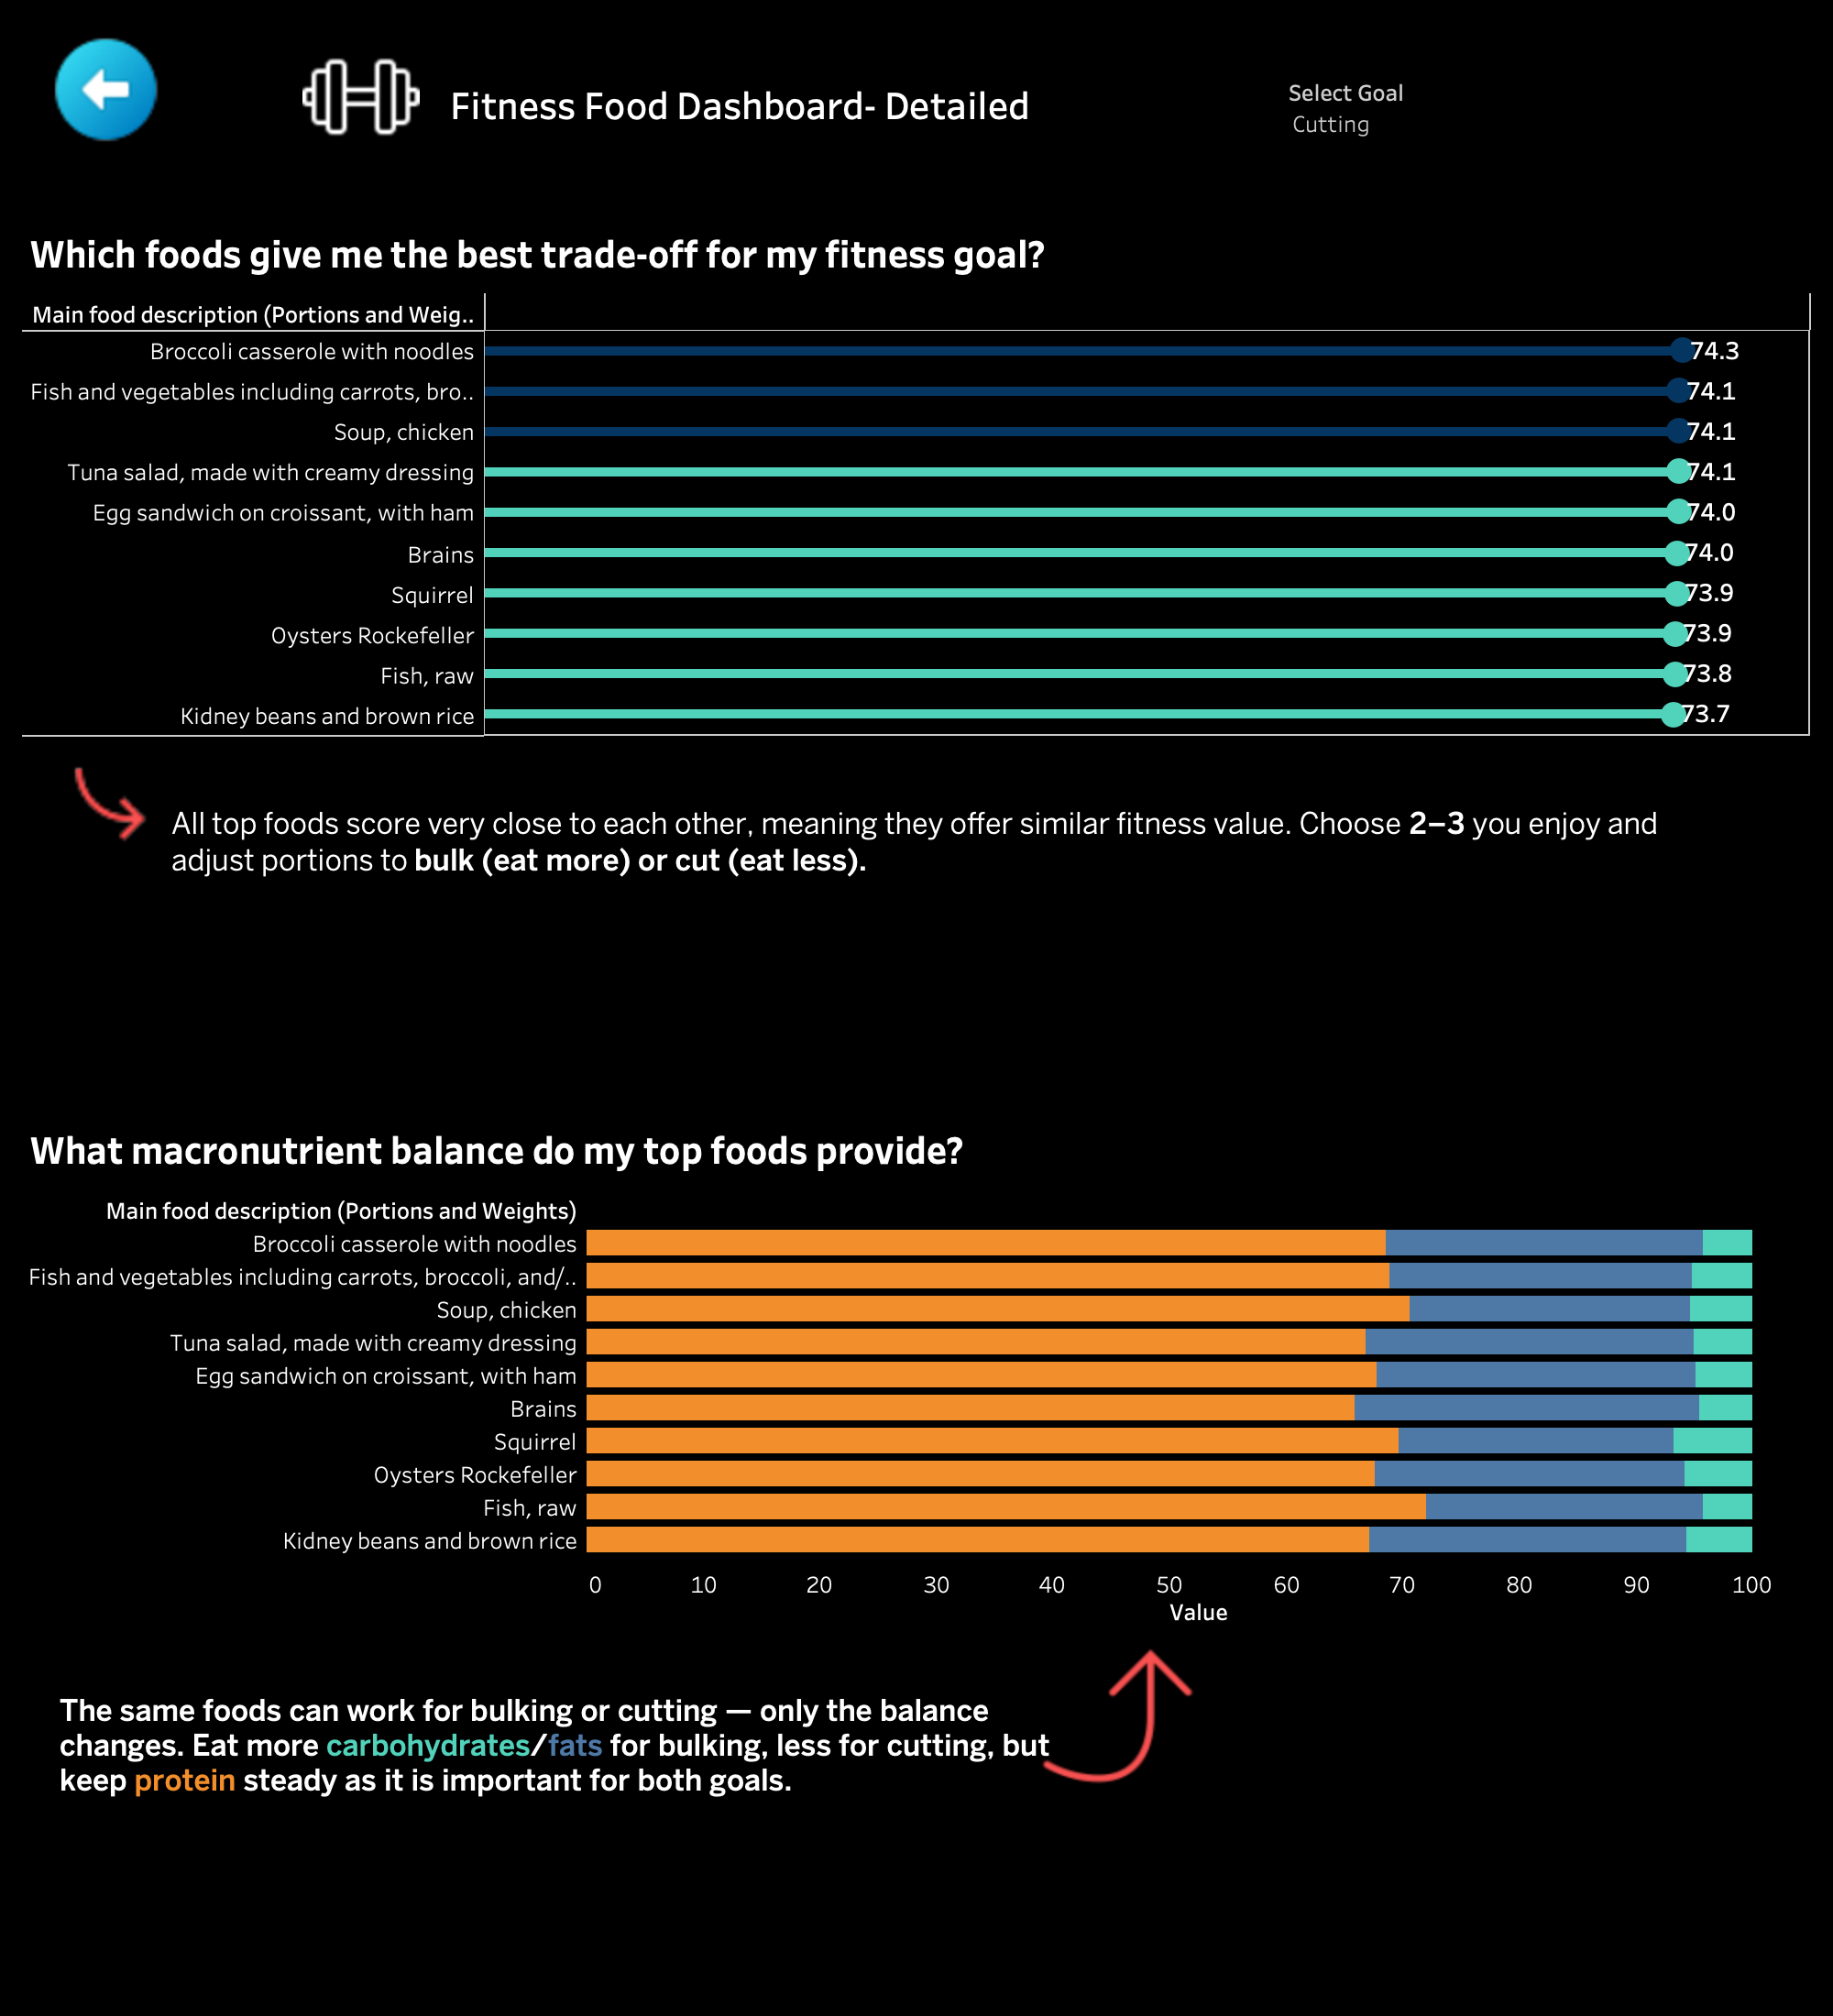

The dashboard page shown, as its layout file describes it:
{"tool":"tableau","page":{"name":"Detail","canvas":[1000,1100],"ordinal":0},"visuals":[{"type":"text","box":[99,8,610,98]},{"type":"image","param":"/Users/ansh/Downloads/icons8-fitness-50 (1).png","box":[165,12,64,83]},{"type":"parameter","param":"[Parameters].[Parameter 1]","box":[703,41.2,287,96.2]},{"type":"worksheet","title":"Detail-Chart1","mark":"Automatic","rows":["Main food description (Portions and Weights)"],"cols":["Calculation_4735183199731286022","Calculation_4735183199731286022"],"box":[8,114,984,292]},{"type":"text","box":[91,403,841,113]},{"type":"image","param":"/Users/ansh/Downloads/icons8-curved-arrow-32.png","box":[21,411,80,55]},{"type":"worksheet","title":"Detail-Chart2","mark":"Automatic","rows":["Main food description (Portions and Weights)"],"box":[8,603,984,489]},{"type":"text","box":[30,890,566,127]},{"type":"image","param":"/Users/ansh/Downloads/icons8-curved-arrow-100.png","box":[551,891,120,94]}]}

Visuals, with their boxes in screenshot pixels (x1, y1, x2, y2), scaled from the page's 1000x1100 canvas onto the 1833x2016 screenshot:
text: x1=181, y1=15, x2=1300, y2=194
image: x1=302, y1=22, x2=420, y2=174
parameter: x1=1289, y1=75, x2=1815, y2=252
"Detail-Chart1" worksheet: x1=15, y1=209, x2=1818, y2=744
text: x1=167, y1=739, x2=1708, y2=946
image: x1=38, y1=753, x2=185, y2=854
"Detail-Chart2" worksheet: x1=15, y1=1105, x2=1818, y2=2001
text: x1=55, y1=1631, x2=1092, y2=1864
image: x1=1010, y1=1633, x2=1230, y2=1805
